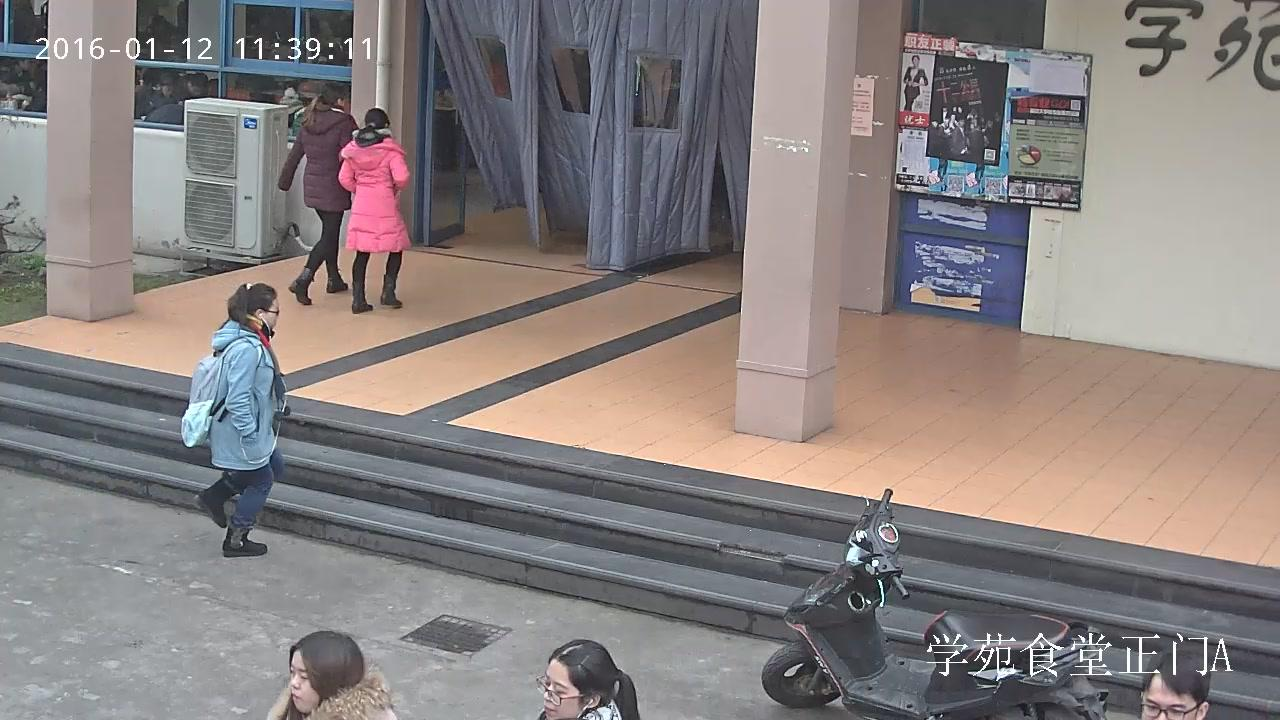person: (180, 280, 291, 558), (277, 83, 359, 304), (338, 108, 412, 313), (165, 72, 210, 109), (903, 54, 927, 111)
